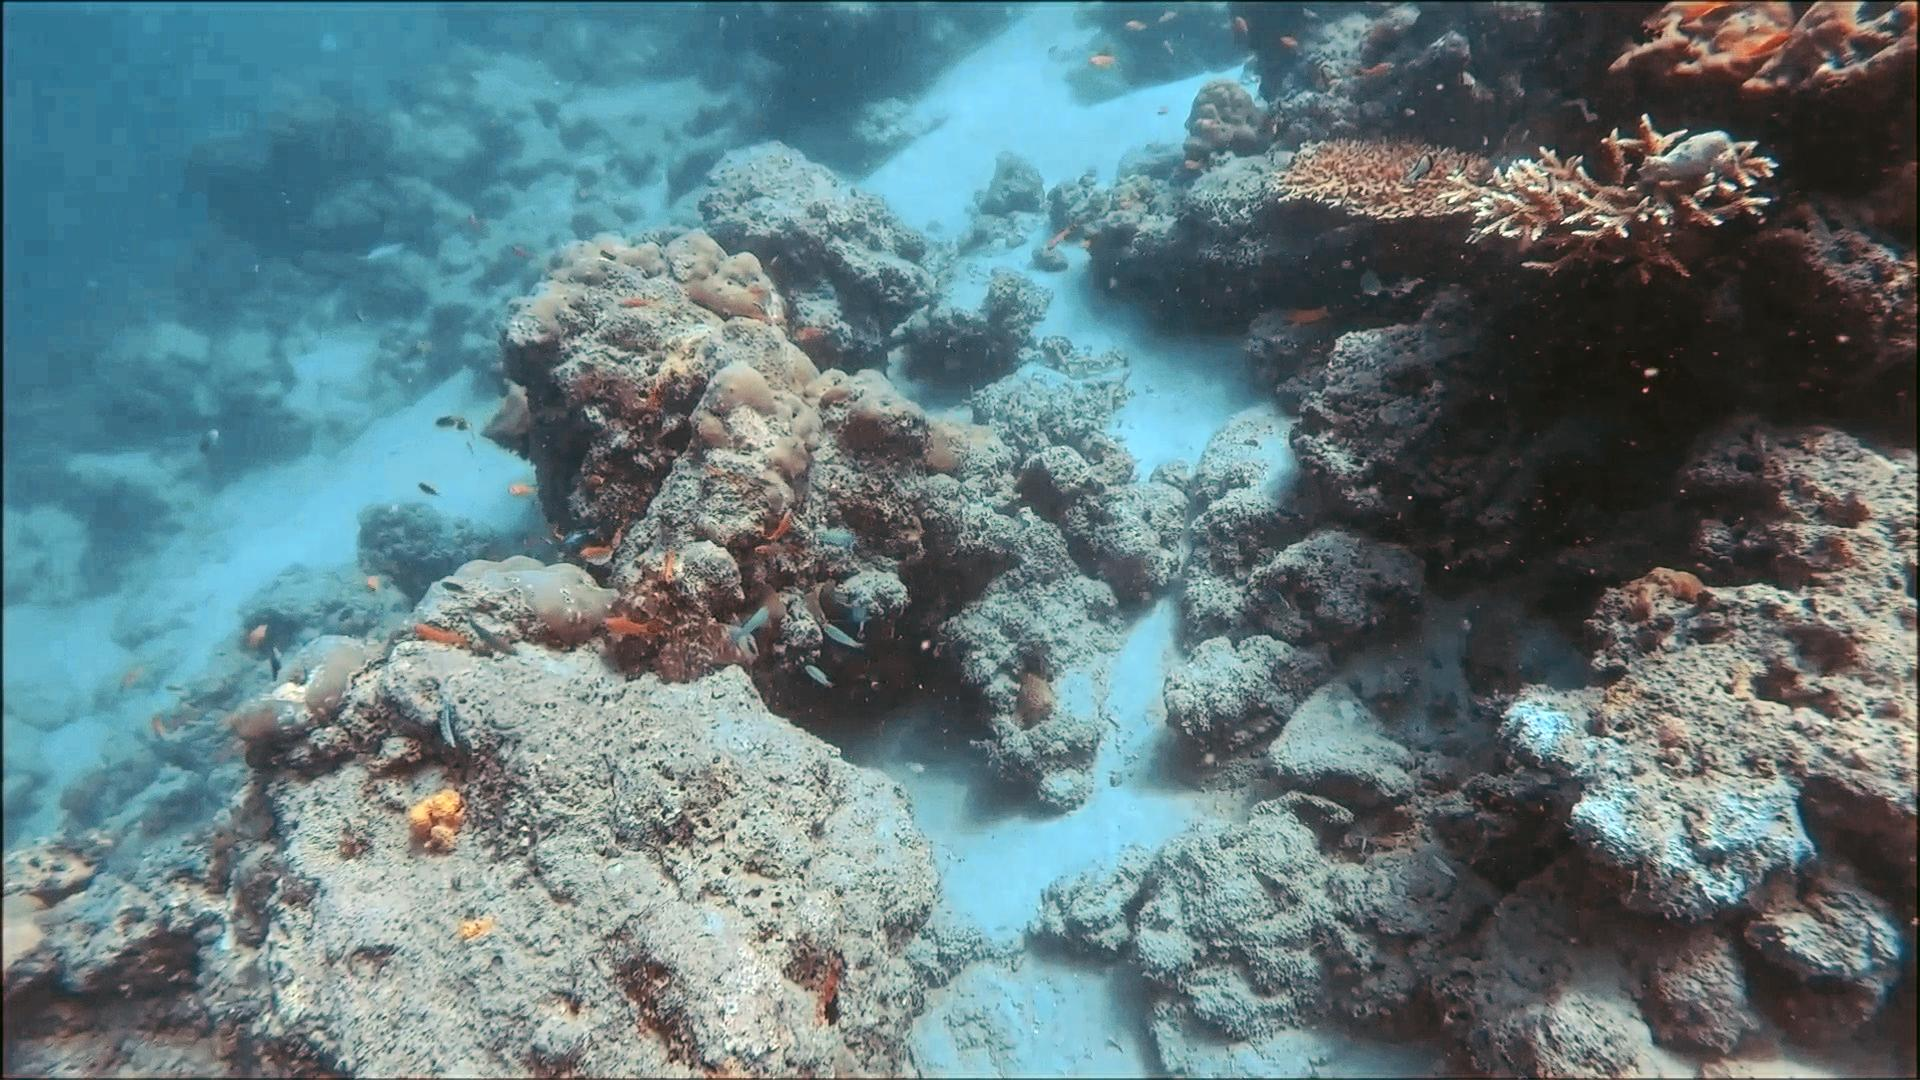Porites-Porites pukoensis: (629, 216, 855, 513)
